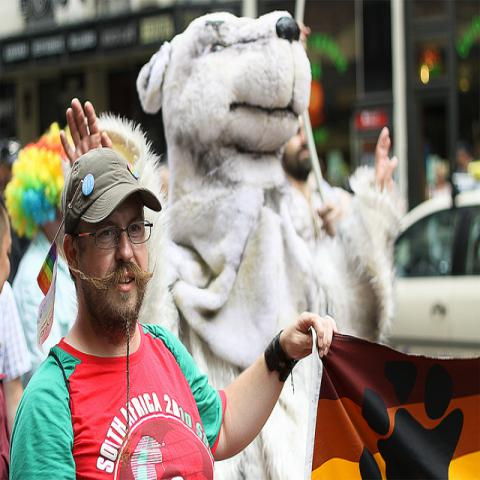car: (389, 172, 479, 359)
